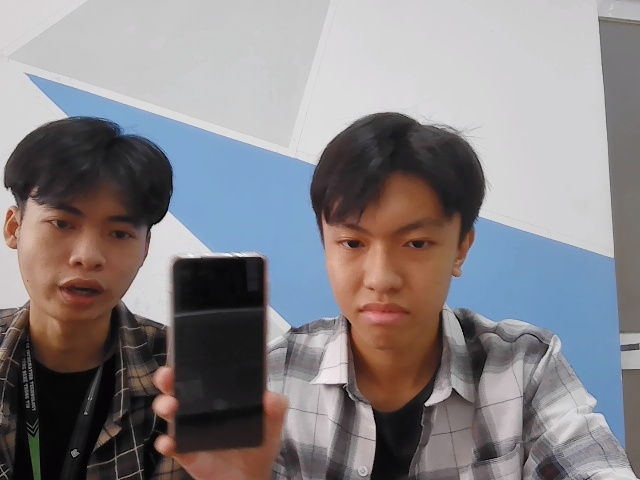human: (313, 103, 483, 355), (1, 109, 176, 323)
phone: (170, 245, 270, 455)
